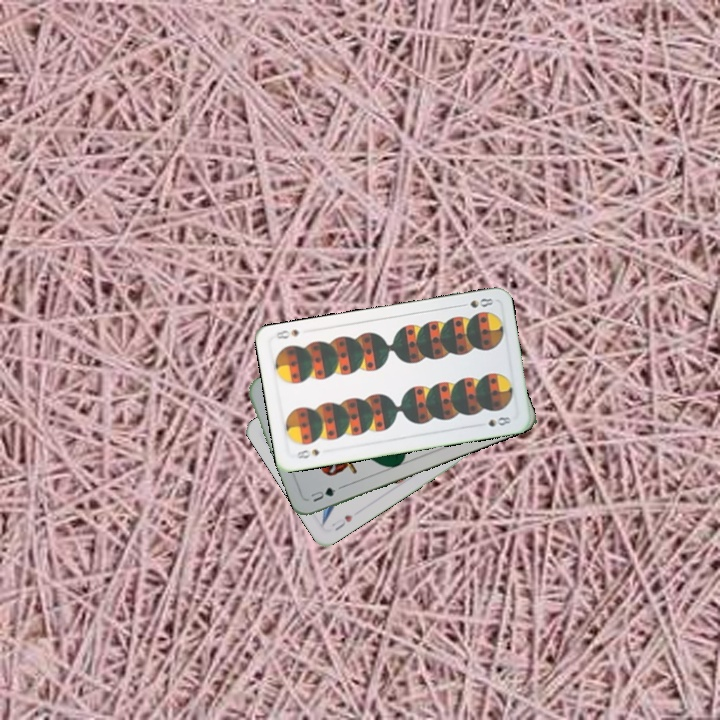GU: (306, 482, 344, 505)
HU: (331, 511, 355, 533)
S8: (455, 294, 496, 311), (292, 445, 322, 461)
